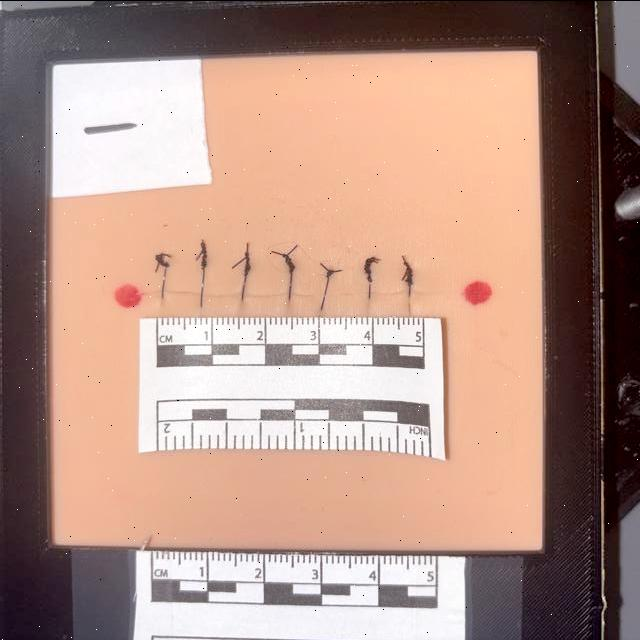incision_line: (127, 284, 485, 300)
scale_marker: (156, 318, 212, 342)
suture_d: (324, 286, 370, 300), (369, 284, 408, 300), (242, 288, 290, 300), (162, 286, 202, 300), (202, 286, 242, 300), (289, 288, 323, 300)
suture_l: (314, 293, 330, 315), (364, 290, 377, 310), (285, 291, 296, 309), (234, 294, 248, 308), (156, 296, 169, 311), (406, 292, 414, 314), (197, 293, 207, 310)
suture_r: (156, 259, 174, 296), (236, 259, 252, 291), (198, 257, 211, 293), (319, 264, 335, 292), (286, 254, 298, 288), (405, 265, 416, 293), (366, 262, 376, 288)
